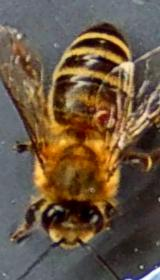varroa_mite: (87, 104, 116, 134)
